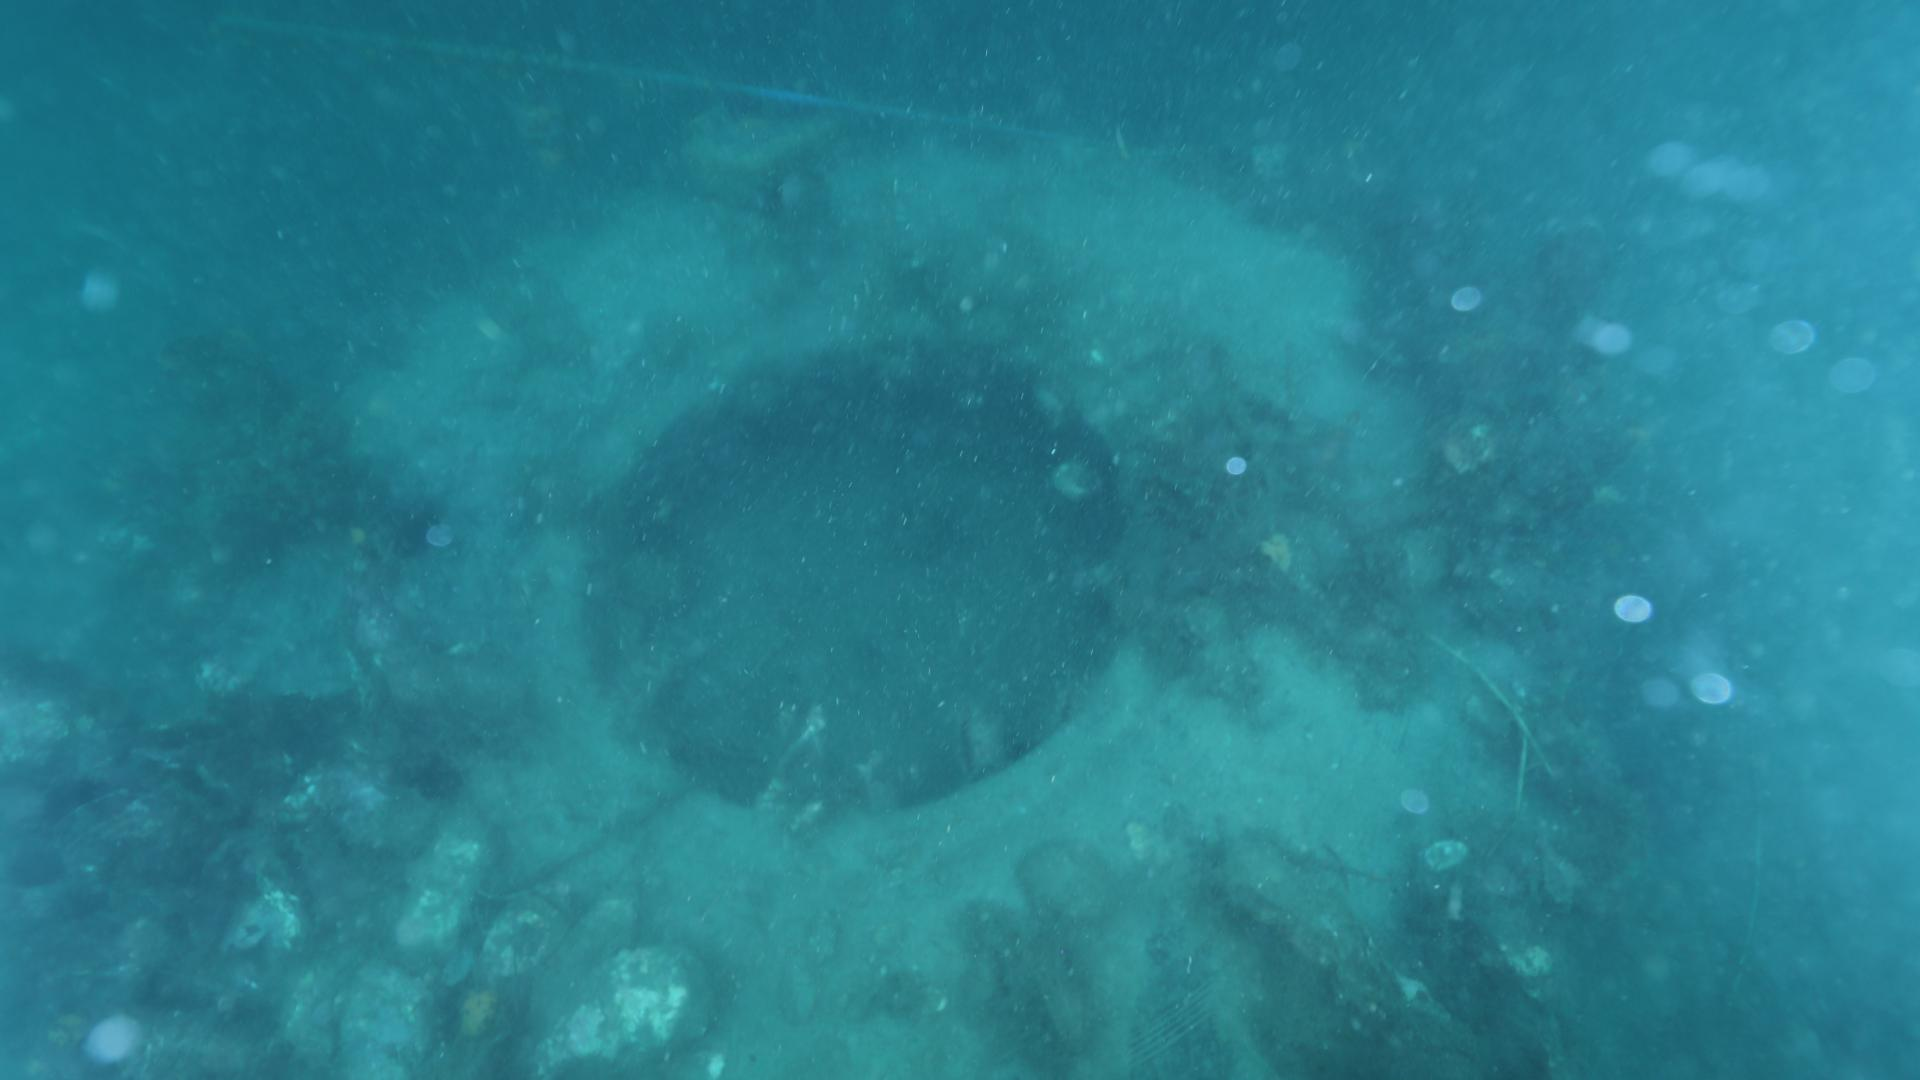tire: (347, 148, 1538, 1080)
